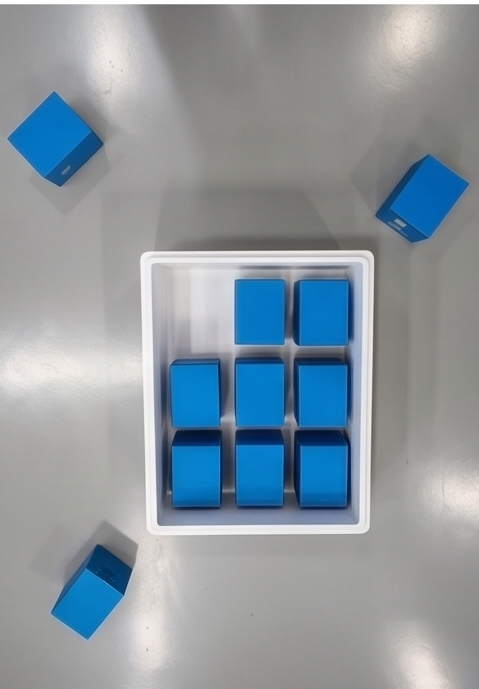blue_box: (7, 88, 107, 183), (374, 154, 470, 241), (50, 546, 132, 639), (293, 429, 348, 510), (170, 429, 221, 509), (293, 353, 346, 429), (236, 429, 285, 509), (291, 279, 348, 346), (234, 353, 283, 429), (170, 357, 218, 429), (234, 279, 285, 346)
container_box: (135, 249, 375, 535)
